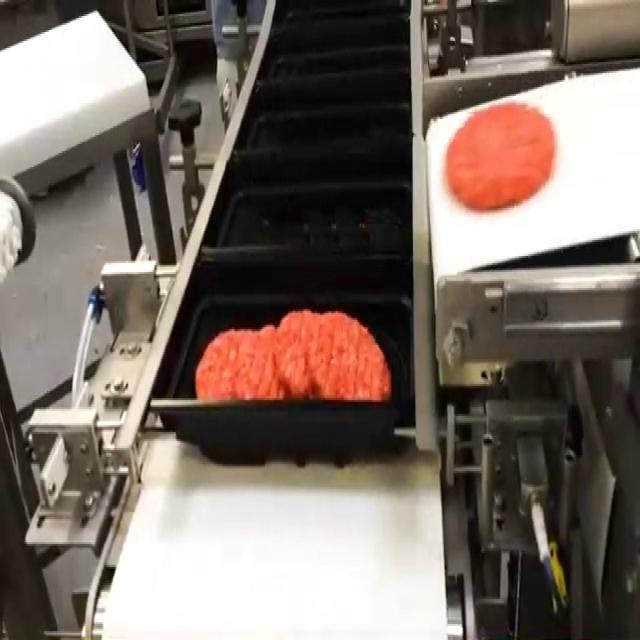4-hamburguer: (196, 309, 391, 400)
hamburguer: (445, 101, 555, 210)
